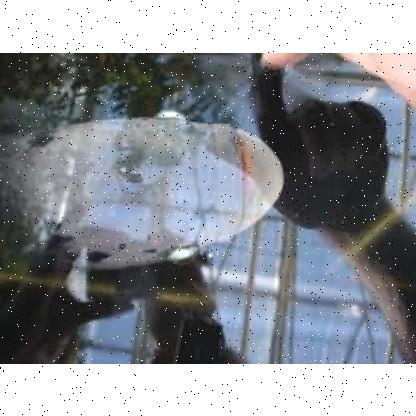gurame: (0, 103, 284, 292)
